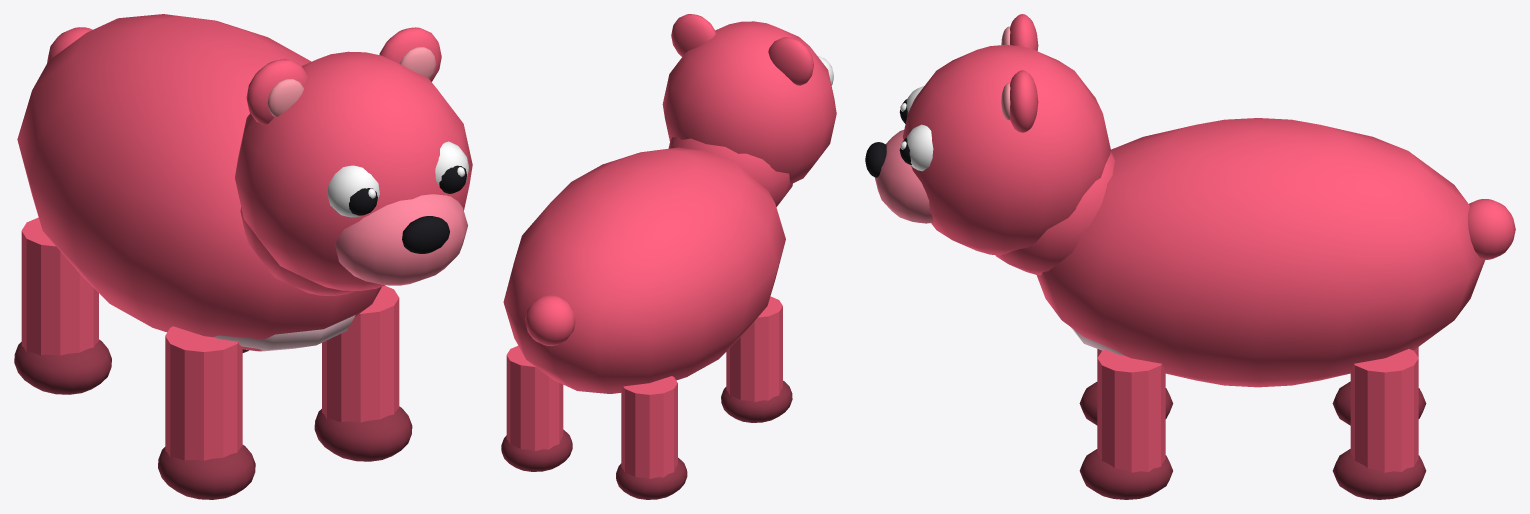
The picture shows the model from 3 angles, left to right: view 1: azimuth 30°, elevation 25°; view 2: azimuth 150°, elevation 25°; view 3: azimuth 270°, elevation 25°; orthographic projection. The views are drawn at different scales.
Parts seen in each view (by area): view 1: Gummy Bear; view 2: Gummy Bear; view 3: Gummy Bear.
Boxes of the visible parts, left/top/right/bottom form: Gummy Bear: left=14, top=14, right=472, bottom=499; Gummy Bear: left=501, top=14, right=836, bottom=499; Gummy Bear: left=865, top=14, right=1515, bottom=499.
Bounding box in the file's own units: 1.7 × 2.69 × 3.82.
Materials: 1 (1 with a texture image).
